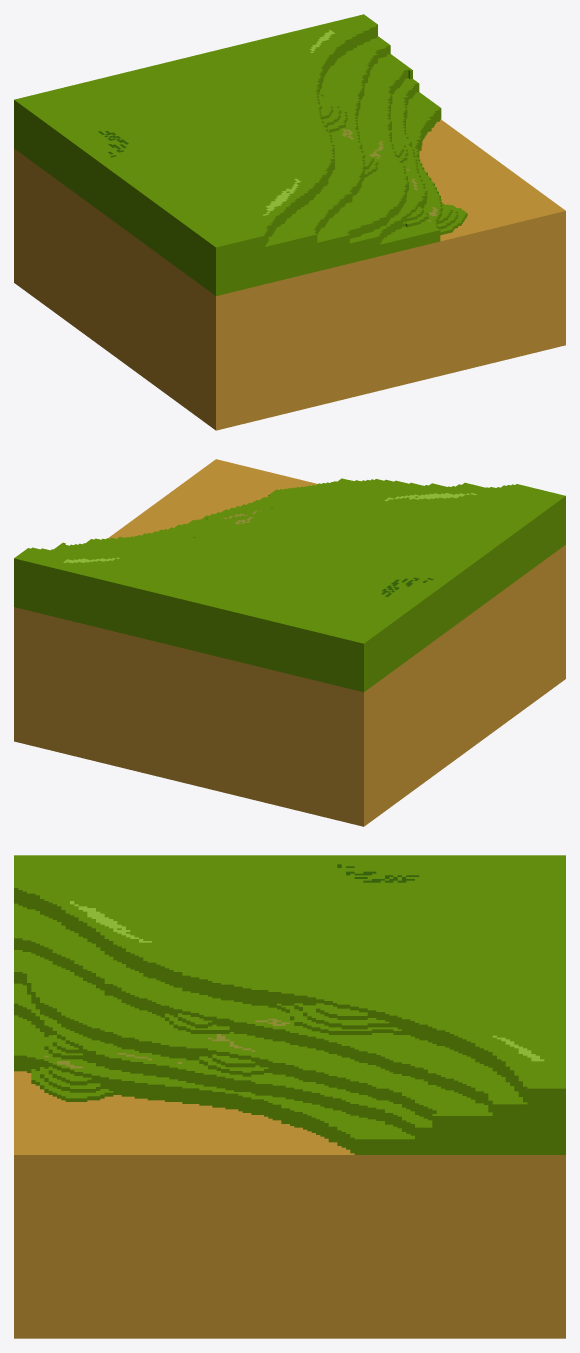
3 renders of one model, top to bottom at view 1: azimuth 30°, elevation 25°; view 2: azimuth 150°, elevation 25°; view 3: azimuth 270°, elevation 25°, orthographic. The views are drawn at different scales.
Visible parts, largest first — view 1: 12C; view 2: 12C; view 3: 12C.
Part boxes in pixels (<box>): 12C: <box>14,14,565,430</box>; 12C: <box>14,459,565,826</box>; 12C: <box>14,855,565,1338</box>.
Bounding box in the file's own units: 12.8 × 6.4 × 12.8.
1 material, 1 textured.
